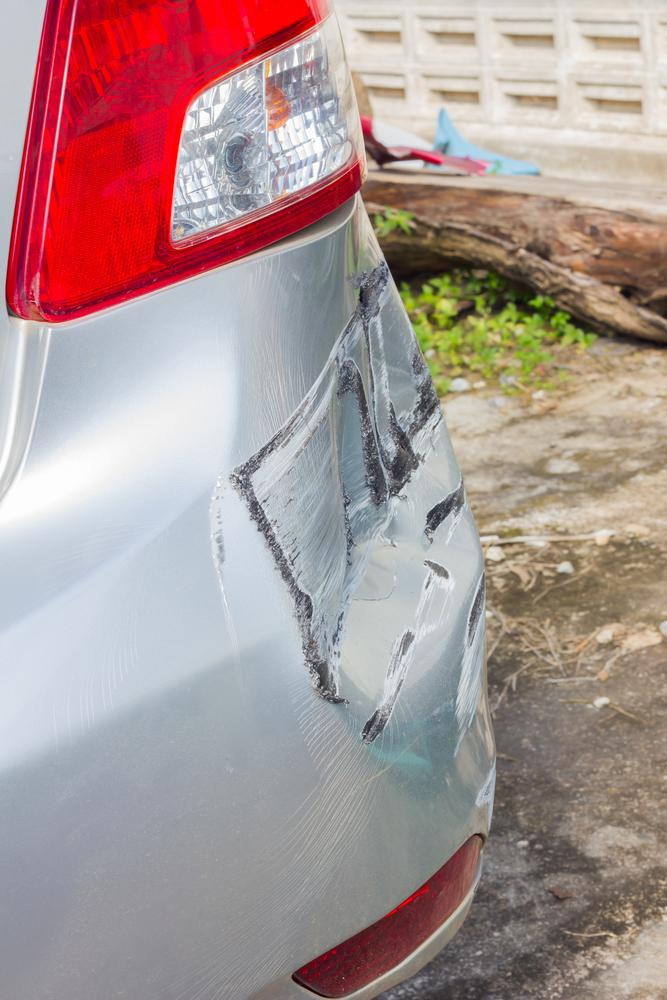scratch: (212, 258, 489, 924)
